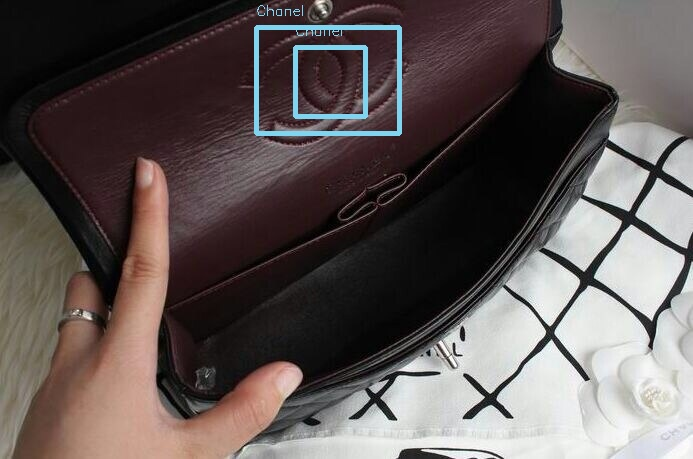Chanel: (227, 2, 419, 148)
